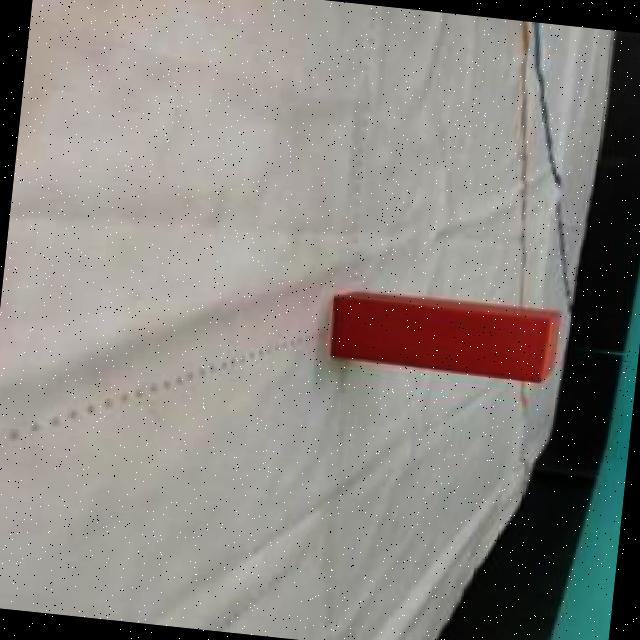redbox: (329, 288, 562, 380)
